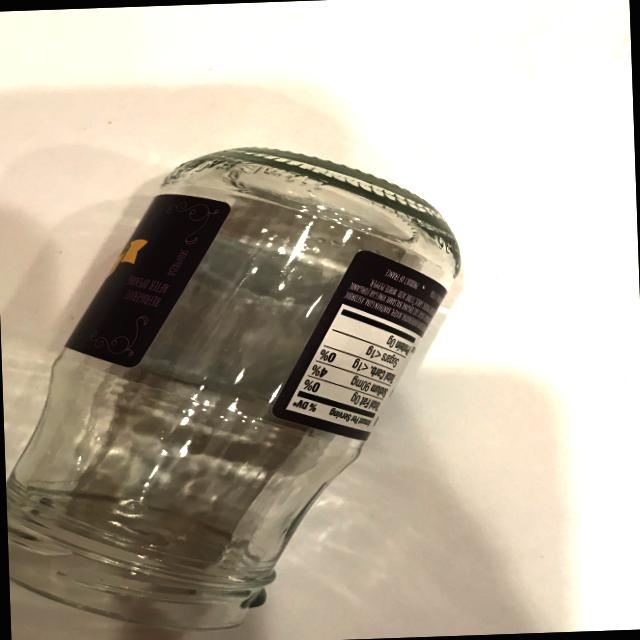Glass: (0, 128, 492, 640)
